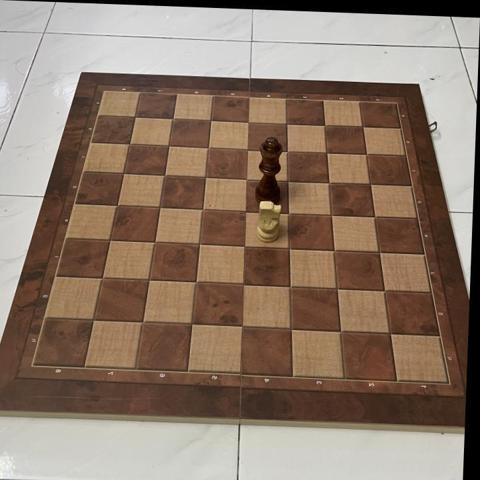xcorner: (354, 118, 372, 136), (200, 138, 218, 156), (135, 312, 153, 330), (126, 108, 144, 125), (165, 109, 182, 127), (203, 111, 220, 129), (316, 117, 334, 134), (240, 140, 257, 158), (156, 166, 174, 183), (321, 173, 338, 191), (362, 175, 379, 193), (323, 206, 341, 223), (366, 207, 383, 225), (281, 239, 299, 256), (94, 269, 112, 286), (141, 271, 159, 288), (188, 273, 206, 290), (235, 275, 253, 292), (282, 277, 300, 294), (86, 310, 103, 328), (283, 319, 301, 336), (332, 321, 350, 338), (381, 323, 399, 340), (241, 113, 258, 130), (279, 115, 296, 132), (121, 135, 138, 152), (161, 137, 178, 154), (279, 142, 296, 159), (319, 144, 336, 161), (358, 146, 375, 163), (115, 164, 132, 181), (198, 168, 215, 185), (239, 170, 256, 187), (280, 172, 297, 189), (109, 196, 126, 213), (152, 198, 169, 215), (195, 200, 212, 217), (238, 202, 255, 219), (281, 204, 298, 221), (102, 231, 119, 248), (147, 233, 164, 250), (192, 235, 209, 252), (237, 237, 254, 254), (326, 241, 343, 258), (371, 243, 388, 260), (329, 279, 346, 296), (376, 281, 393, 298), (185, 315, 202, 332), (234, 317, 251, 334)
